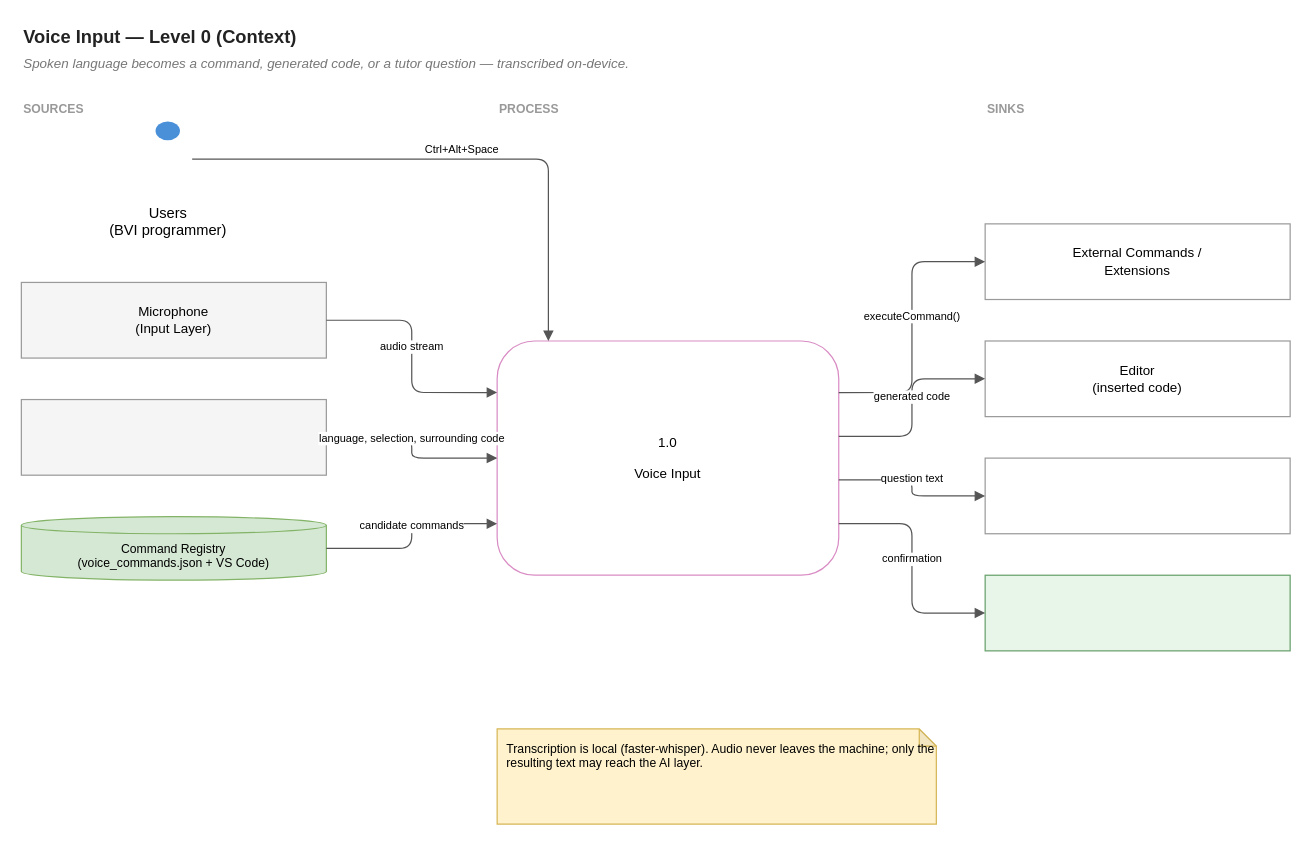
This 1312x845 diagram has some shape labels left out. Each missing label, with the centre of its shape:
"Chat Tutor" goes at (x=1137, y=495).
"Editor Context (VS Code Environment)" goes at (x=173, y=436).
"Speech Output / TTS" goes at (x=1137, y=612).
